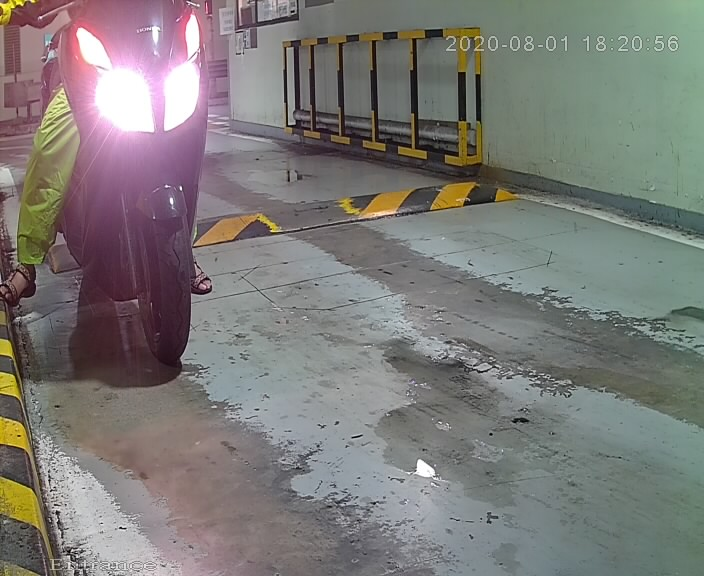motorcycle: (7, 1, 233, 389)
